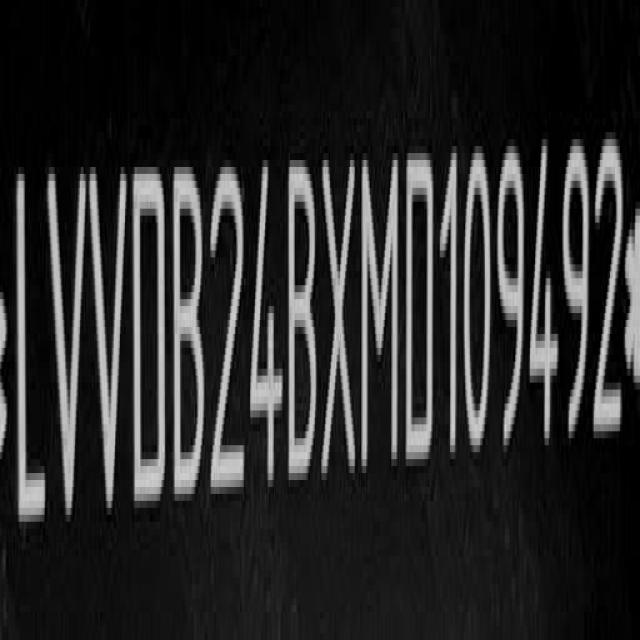0: (460, 148, 491, 470)
1: (439, 147, 458, 473)
2: (210, 165, 249, 512), (595, 136, 626, 454)
4: (251, 158, 285, 508), (528, 139, 561, 458)
9: (498, 144, 529, 466), (562, 138, 592, 457)
B: (173, 162, 210, 516), (291, 154, 322, 496)
D: (129, 157, 167, 521), (408, 148, 438, 476)
L: (14, 163, 48, 543)
M: (360, 149, 402, 486)
V: (45, 159, 87, 535), (90, 155, 130, 532)
X: (321, 148, 358, 492)
